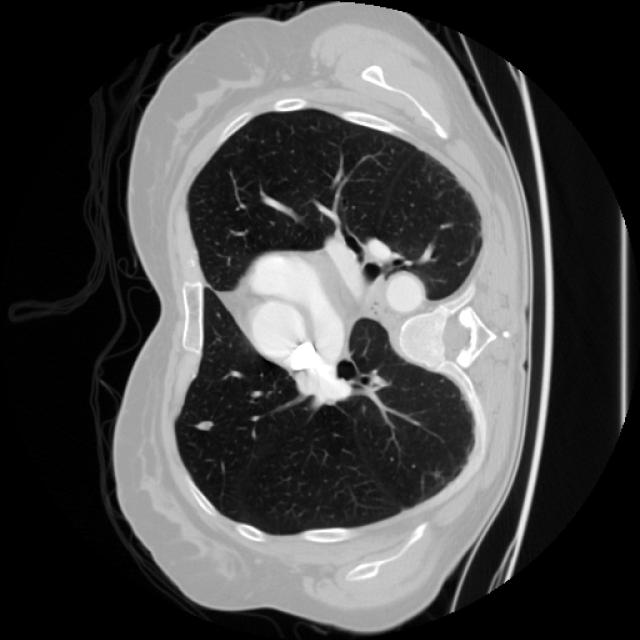nodule: (188, 411, 218, 441)
